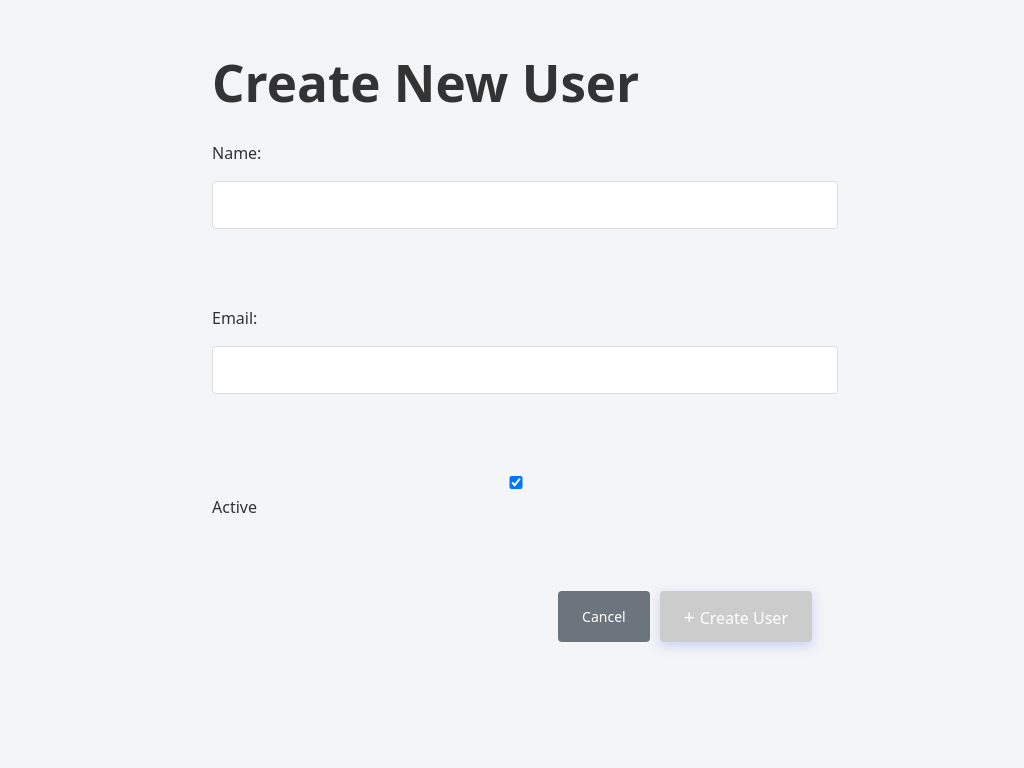
Test: CreateUser › handles error when createUser fails
Type "Alice Smith" into the field labelled "Name:" at (525, 205), box [212,181,838,229]
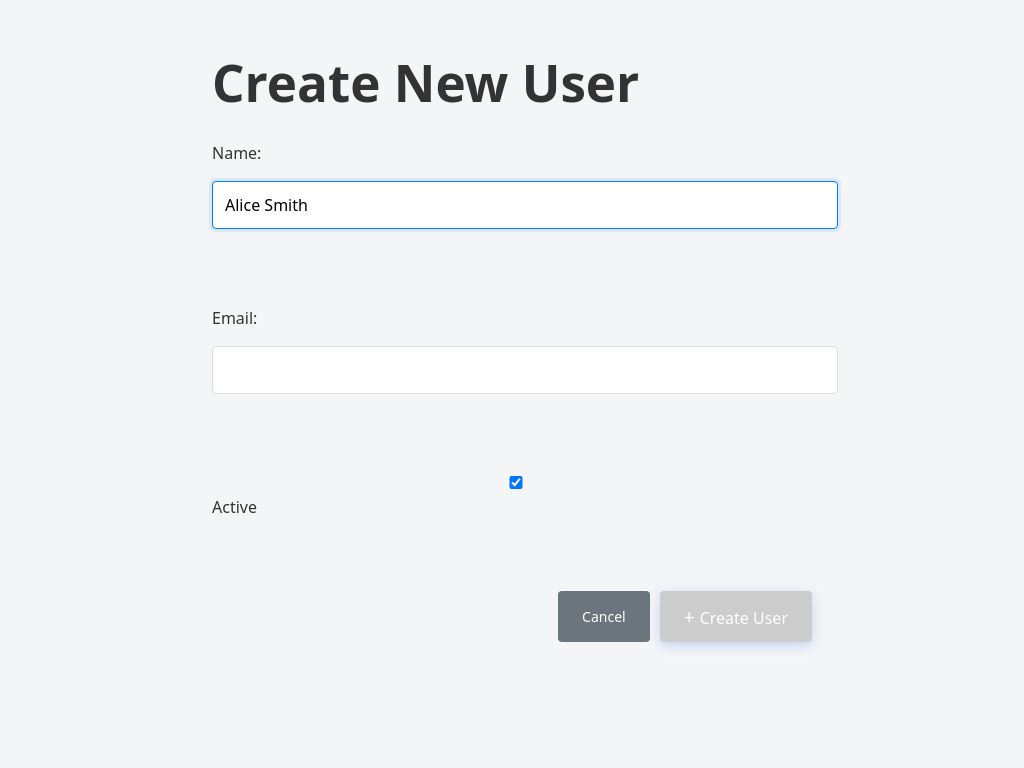
Type "alice.smith@example.com" into the field labelled "Email:" at (525, 370), box [212,346,838,394]
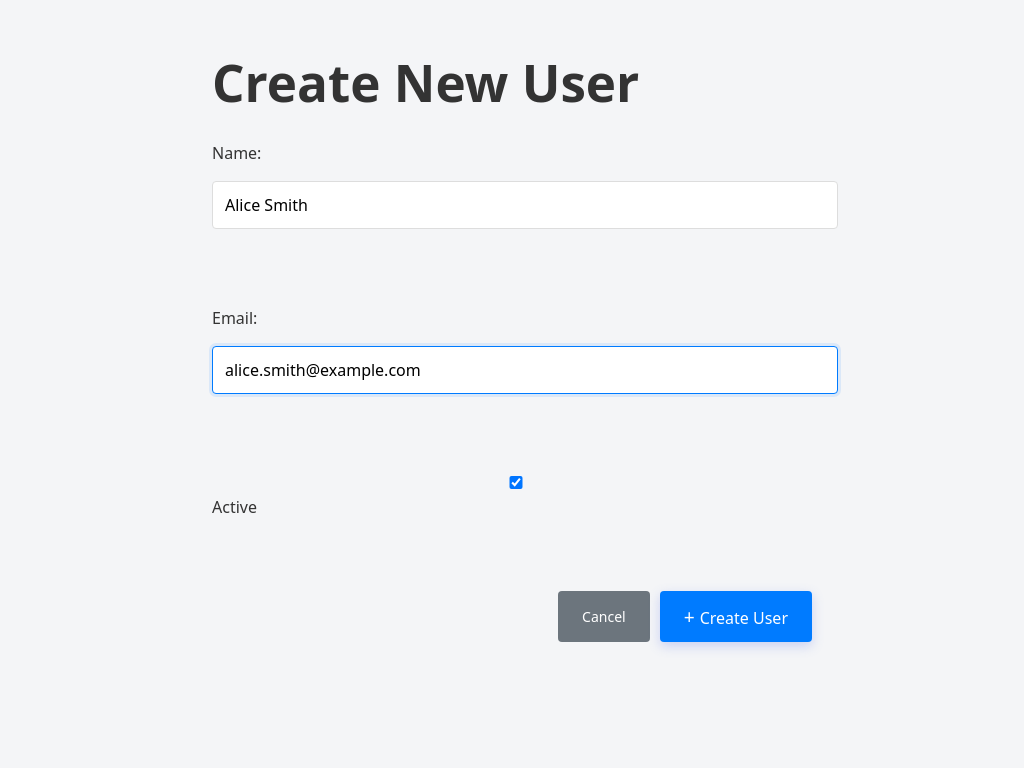
Click the button "Create User" at (736, 616), box [660,591,812,642]
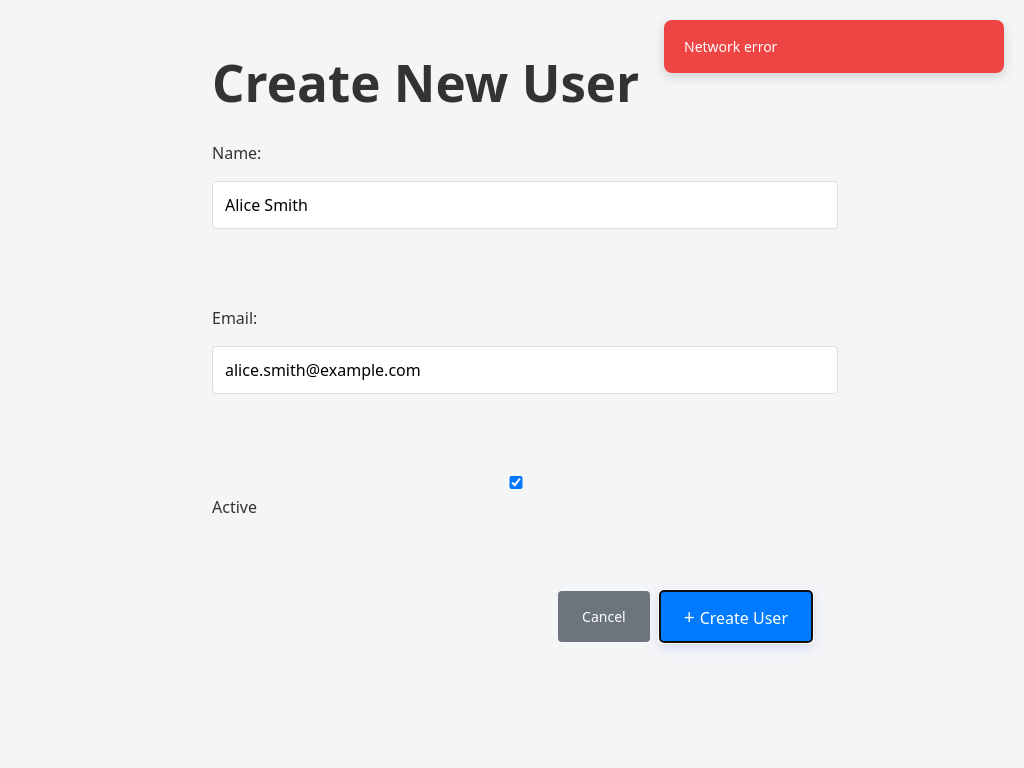
Expected: the text "Network error" is shown, [664,20,1004,73]
